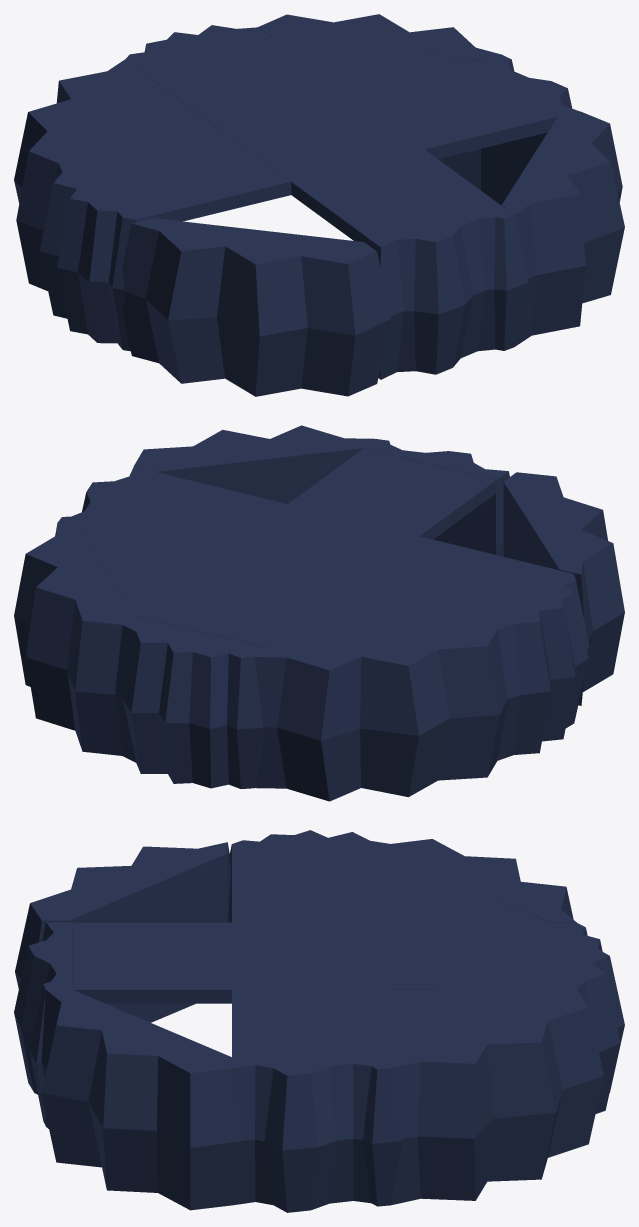
Rendered from floor2.obj.
3 views of the same model, one above another, from view 1: azimuth 30°, elevation 25°; view 2: azimuth 150°, elevation 25°; view 3: azimuth 270°, elevation 25° (orthographic). The views are drawn at different scales.
Visible parts, largest first — view 1: floor.384, floor.376, floor.378, floor.381, floor.382, floor.388, floor.387, floor.386, floor.385, floor.374, floor.377, floor.383 (+3 smaller); view 2: floor.374, floor.379, floor.377, floor.381, floor.384, floor.387, floor.378, floor.386, floor.382, floor.385, floor.388, floor.375 (+3 smaller); view 3: floor.377, floor.378, floor.380, floor.384, floor.387, floor.386, floor.382, floor.385, floor.388, floor.379, floor.374, floor.383 (+3 smaller).
Part boxes in pixels (bbox=[...]): floor.384: bbox=[122, 218, 391, 396]; floor.376: bbox=[368, 205, 528, 379]; floor.378: bbox=[501, 111, 624, 347]; floor.381: bbox=[39, 158, 157, 351]; floor.382: bbox=[81, 125, 291, 221]; floor.388: bbox=[348, 60, 557, 159]; floor.387: bbox=[291, 149, 500, 244]; floor.386: bbox=[137, 36, 347, 125]; floor.385: bbox=[214, 93, 423, 181]; floor.374: bbox=[14, 59, 137, 290]; floor.377: bbox=[258, 14, 502, 190]; floor.383: bbox=[271, 36, 479, 92]; floor.374: bbox=[254, 624, 508, 801]; floor.379: bbox=[115, 615, 266, 788]; floor.377: bbox=[14, 522, 134, 755]; floor.381: bbox=[476, 568, 589, 760]; floor.384: bbox=[503, 472, 624, 705]; floor.387: bbox=[288, 448, 495, 539]; floor.378: bbox=[133, 425, 376, 503]; floor.386: bbox=[135, 559, 342, 647]; floor.382: bbox=[344, 536, 551, 623]; floor.385: bbox=[212, 504, 419, 591]; floor.388: bbox=[80, 472, 287, 559]; floor.375: bbox=[268, 592, 474, 647]; floor.377: bbox=[390, 990, 603, 1205]; floor.378: bbox=[41, 989, 243, 1210]; floor.380: bbox=[231, 1057, 402, 1212]; floor.384: bbox=[15, 842, 230, 1022]; floor.387: bbox=[72, 922, 231, 1003]; floor.386: bbox=[391, 922, 550, 989]; floor.382: bbox=[232, 855, 390, 922]; floor.385: bbox=[232, 922, 390, 989]; floor.388: bbox=[232, 990, 390, 1057]; floor.379: bbox=[550, 922, 624, 1113]; floor.374: bbox=[391, 839, 576, 922]; floor.383: bbox=[391, 989, 549, 1056].
Size of the model in its own units: 8.08 by 2.02 by 8.08.
